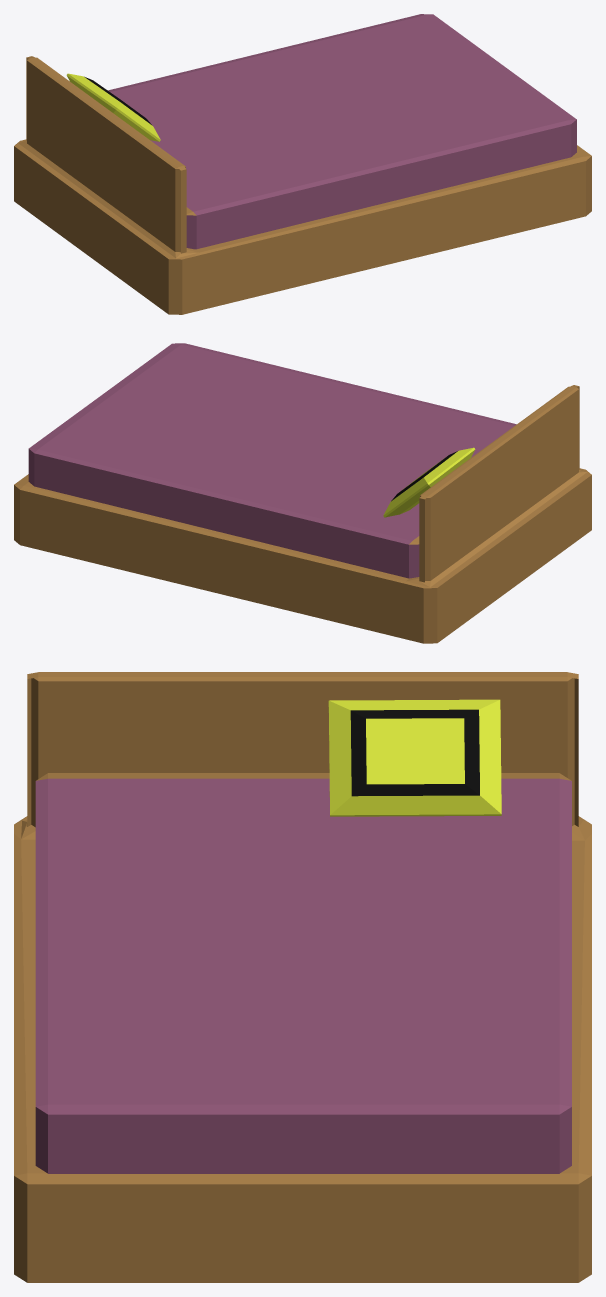
The model's file is Bed.fbx.
3 views of the same model, one above another, from view 1: azimuth 30°, elevation 25°; view 2: azimuth 150°, elevation 25°; view 3: azimuth 270°, elevation 25° (orthographic). The views are drawn at different scales.
Parts seen in each view (by area): view 1: Bed; view 2: Bed; view 3: Bed.
Part boxes in pixels (x1,y1,x2,y2): Bed: (14,14,591,314); Bed: (14,343,591,643); Bed: (14,672,591,1282).
Bounding box in the file's own units: 2.62 × 1.74 × 0.8476.
